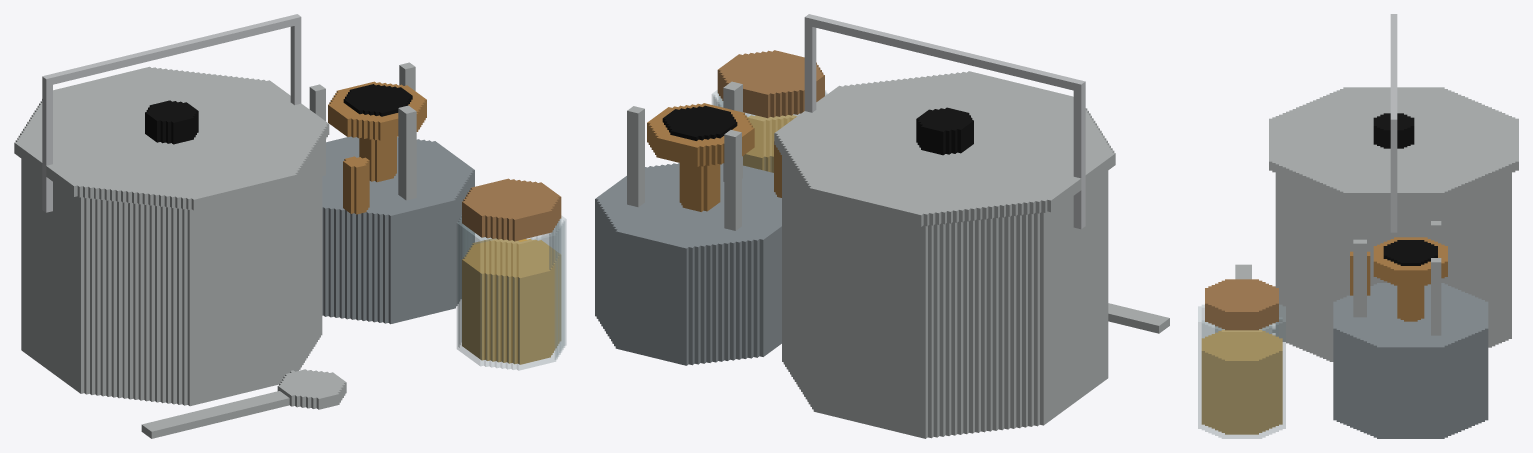
Rendered from survivor_mess_kit.glb.
The picture shows the model from 3 angles, left to right: view 1: azimuth 30°, elevation 25°; view 2: azimuth 150°, elevation 25°; view 3: azimuth 270°, elevation 25°; orthographic projection. The views are drawn at different scales.
Visible parts, largest first — view 1: survivor_mess_kit:compound; view 2: survivor_mess_kit:compound; view 3: survivor_mess_kit:compound.
Part boxes in pixels (bbox=[...]): survivor_mess_kit:compound: bbox=[14, 14, 566, 438]; survivor_mess_kit:compound: bbox=[595, 14, 1169, 438]; survivor_mess_kit:compound: bbox=[1198, 14, 1518, 438].
Bounding box in the file's own units: 0.244 × 0.164 × 0.19.
